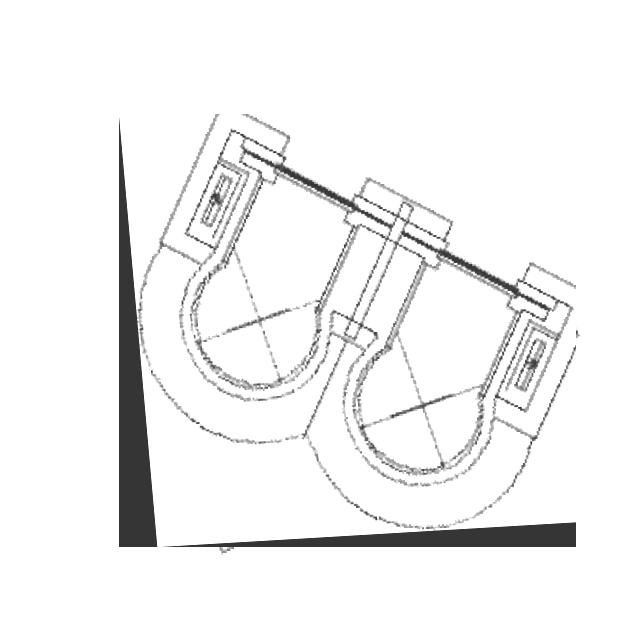lift: (119, 114, 576, 547)
